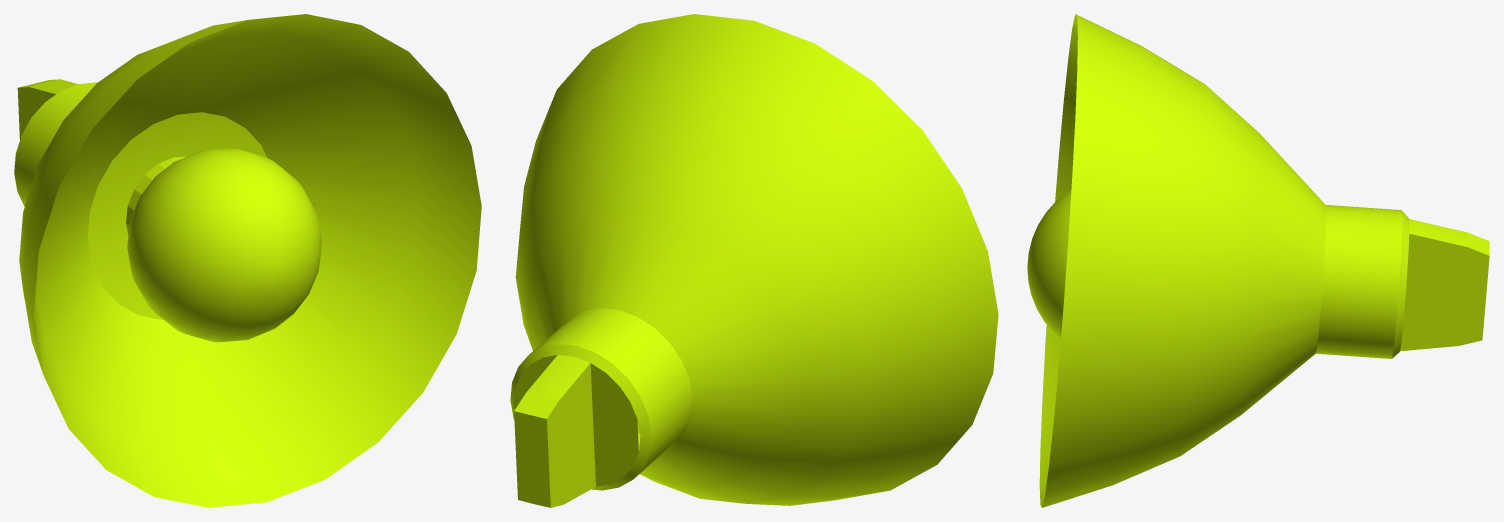
File: light_body_proto.fbx
3 views of the same model, side by side, from view 1: azimuth 30°, elevation 25°; view 2: azimuth 150°, elevation 25°; view 3: azimuth 270°, elevation 25° (orthographic). The views are drawn at different scales.
Parts seen in each view (by area): view 1: polySurface3; view 2: polySurface3; view 3: polySurface3.
Part boxes in pixels (x1,y1,x2,y2): polySurface3: (14,14,481,507); polySurface3: (510,14,998,507); polySurface3: (1027,14,1489,507).
Bounding box in the file's own units: 9.01 × 8.98 × 8.38.
Materials: 1 (1 with a texture image).
